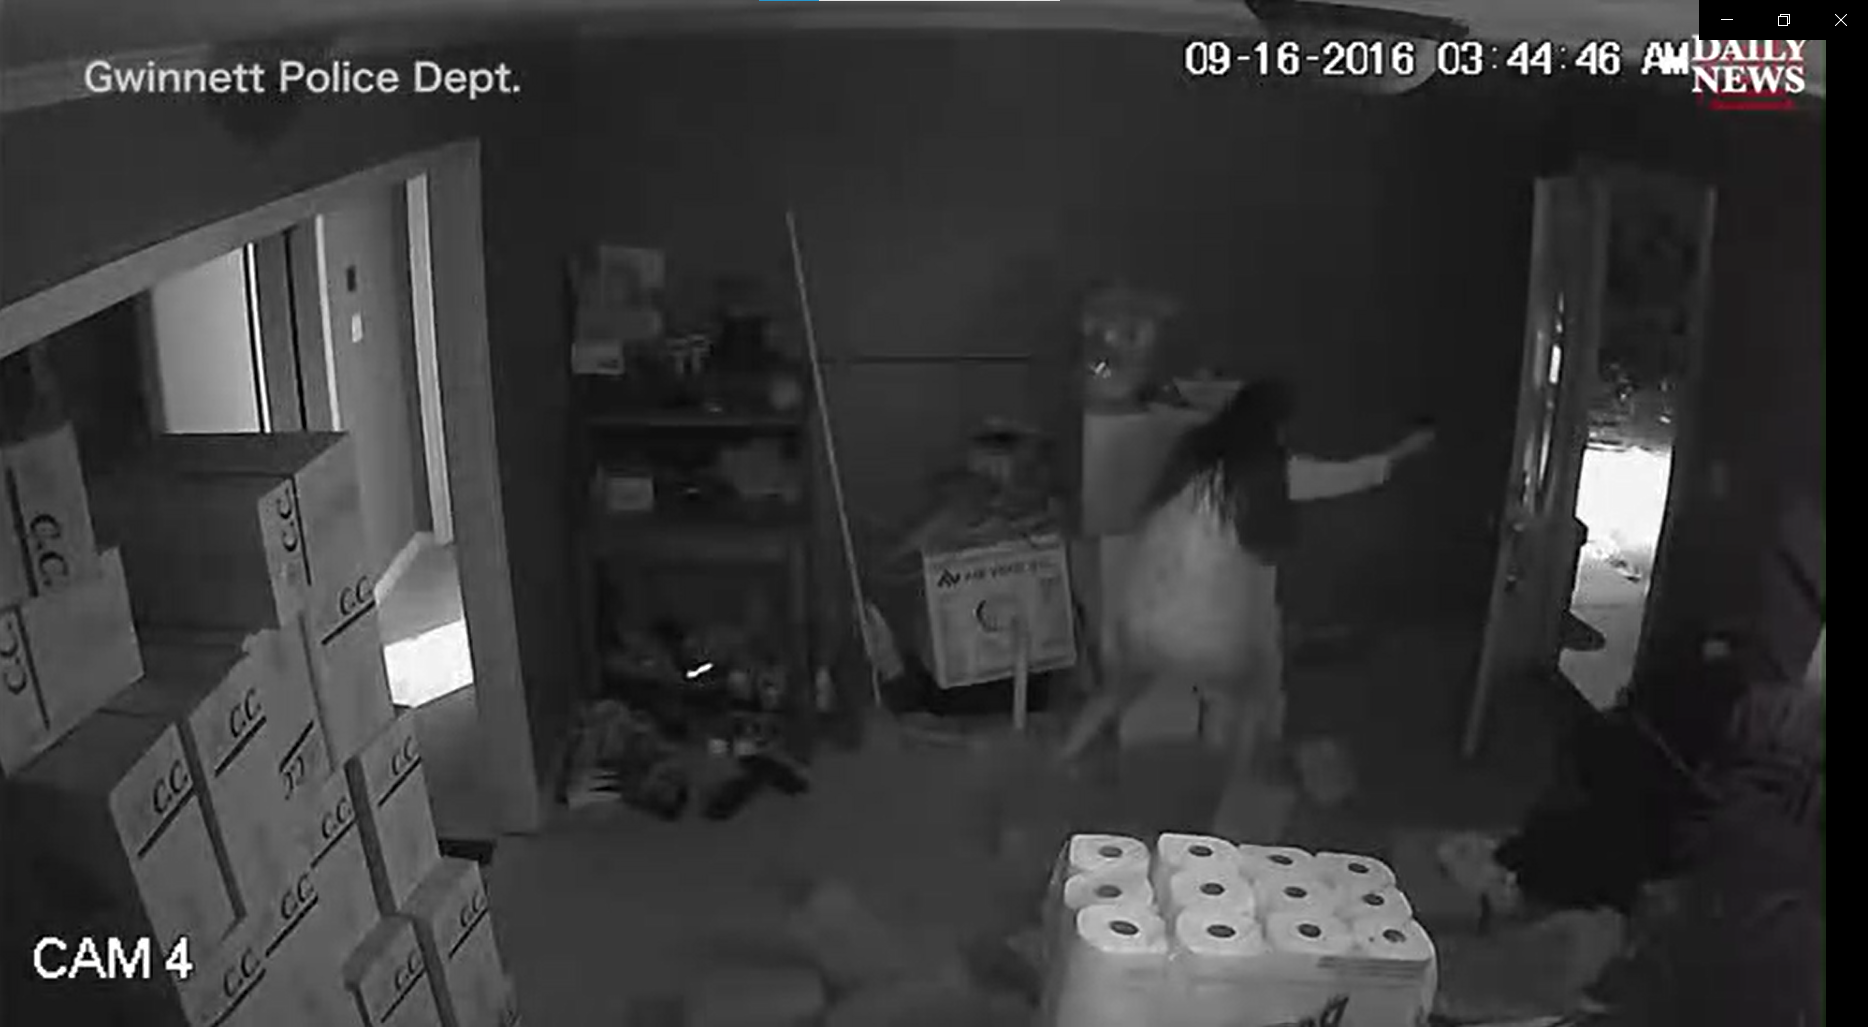person: (1081, 370, 1329, 761)
pistol: (1409, 408, 1481, 453)
pistol in hand: (1321, 395, 1547, 509)
